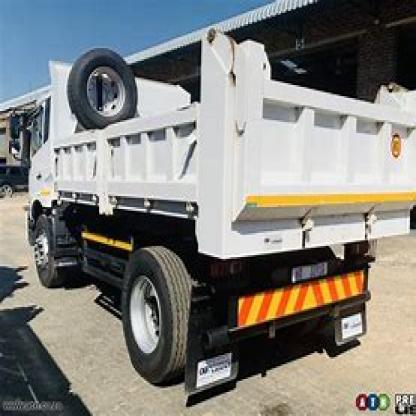dump_truck: (20, 31, 414, 383)
